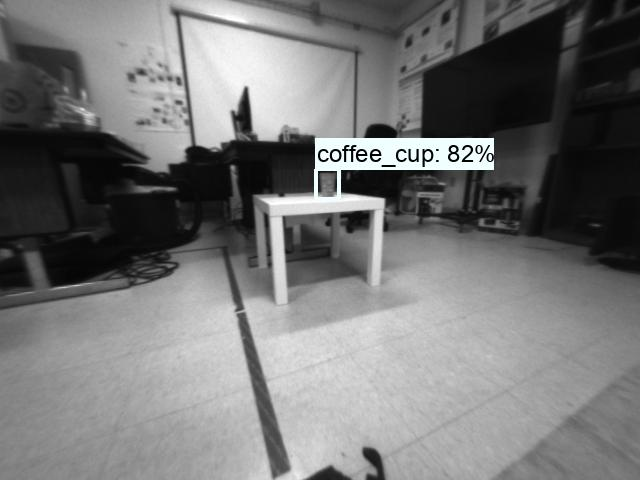coffee_cup: (317, 171, 338, 199)
